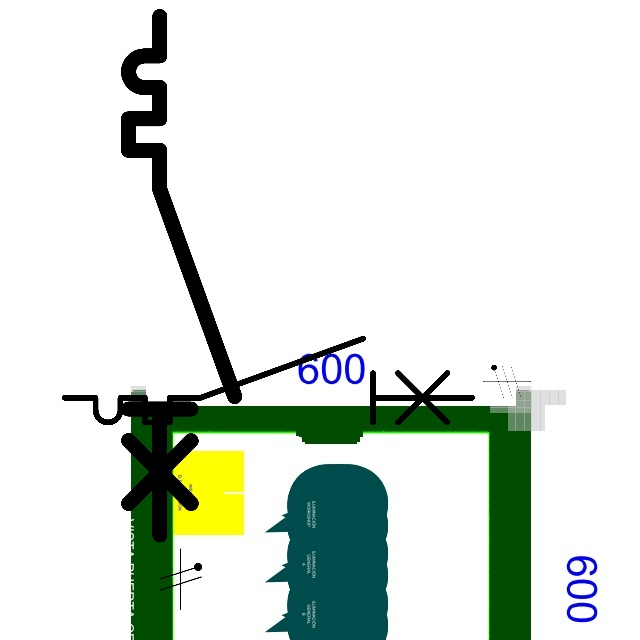interruptor_termomagnetico: (115, 3, 248, 548), (54, 328, 482, 433)
